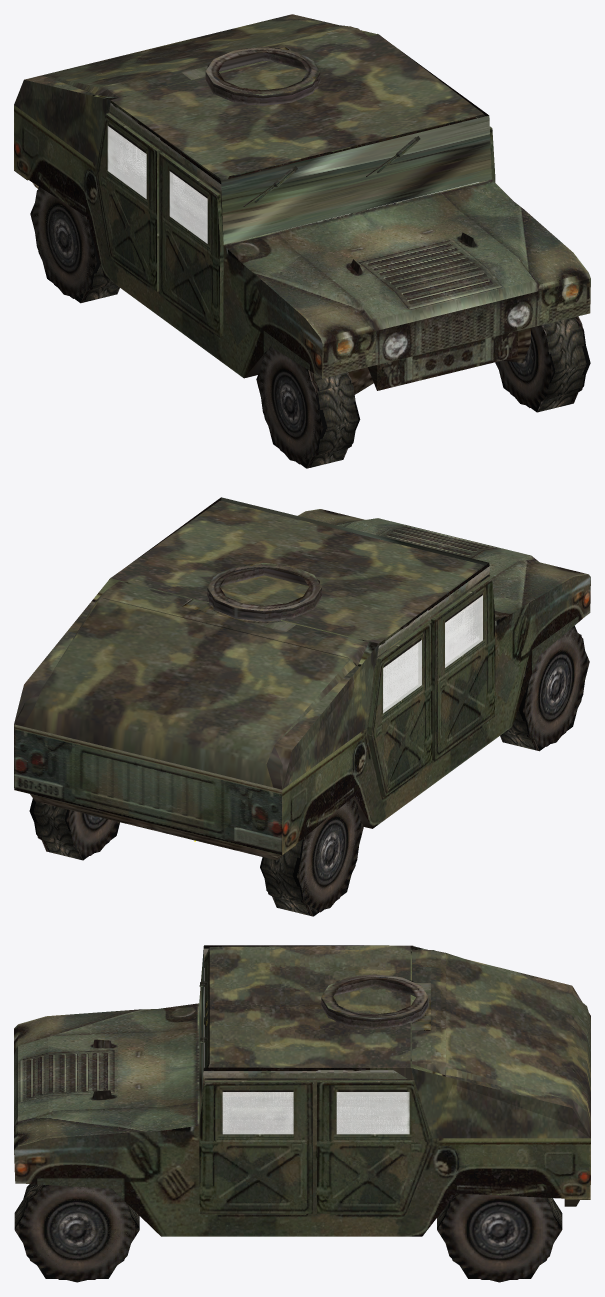
Rendered from FHum50.glb.
3 renders of one model, top to bottom at view 1: azimuth 30°, elevation 25°; view 2: azimuth 150°, elevation 25°; view 3: azimuth 270°, elevation 25°, orthographic. The views are drawn at different scales.
Parts seen in each view (by area): view 1: 01 Mesh0, 01 Mesh0.003, 01 Mesh0.002, 01 Mesh1, 01 Mesh0.001, 03 Mesh0, 03 Mesh0.001, 04 Mesh0, 01 Mesh2, 01 Mesh2.001, 03 Mesh0.002, 02 Mesh0 (+4 smaller); view 2: 01 Mesh0, 01 Mesh0.003, 01 Mesh0.001, 01 Mesh1, 01 Mesh0.002, 04 Mesh0, 04 Mesh0.001, 03 Mesh0, 04 Mesh0.002, 01 Mesh2, 01 Mesh2.001, 03 Mesh0.001 (+1 smaller); view 3: 01 Mesh0, 01 Mesh0.003, 01 Mesh1, 01 Mesh0.001, 01 Mesh0.002, 02 Mesh0, 04 Mesh0, 01 Mesh2, 02 Mesh0.001, 01 Mesh2.001, 04 Mesh0.001, 02 Mesh0.002 (+2 smaller).
Boxes of the visible parts, bbox=[...] form: 01 Mesh0: bbox=[14, 18, 590, 394]; 01 Mesh0.003: bbox=[14, 14, 491, 377]; 01 Mesh0.002: bbox=[14, 35, 590, 373]; 01 Mesh1: bbox=[96, 113, 495, 337]; 01 Mesh0.001: bbox=[15, 19, 523, 375]; 03 Mesh0: bbox=[259, 351, 355, 463]; 03 Mesh0.001: bbox=[259, 351, 352, 464]; 04 Mesh0: bbox=[33, 187, 113, 298]; 01 Mesh2: bbox=[108, 126, 478, 243]; 01 Mesh2.001: bbox=[108, 126, 207, 242]; 03 Mesh0.002: bbox=[256, 346, 360, 468]; 02 Mesh0: bbox=[499, 316, 585, 407]; 01 Mesh0: bbox=[14, 509, 590, 860]; 01 Mesh0.003: bbox=[24, 497, 590, 854]; 01 Mesh0.001: bbox=[17, 563, 540, 843]; 01 Mesh1: bbox=[368, 577, 495, 796]; 01 Mesh0.002: bbox=[14, 501, 540, 852]; 04 Mesh0: bbox=[34, 798, 361, 910]; 04 Mesh0.001: bbox=[37, 798, 361, 912]; 03 Mesh0: bbox=[505, 627, 587, 746]; 04 Mesh0.002: bbox=[29, 798, 363, 916]; 01 Mesh2: bbox=[383, 595, 482, 712]; 01 Mesh2.001: bbox=[383, 596, 482, 712]; 03 Mesh0.001: bbox=[504, 629, 586, 746]; 01 Mesh0: bbox=[14, 950, 590, 1236]; 01 Mesh0.003: bbox=[14, 945, 590, 1236]; 01 Mesh1: bbox=[199, 1080, 430, 1213]; 01 Mesh0.001: bbox=[14, 950, 590, 1236]; 01 Mesh0.002: bbox=[14, 945, 590, 1236]; 02 Mesh0: bbox=[19, 1184, 134, 1282]; 04 Mesh0: bbox=[441, 1193, 557, 1282]; 01 Mesh2: bbox=[204, 968, 409, 1134]; 02 Mesh0.001: bbox=[19, 1184, 134, 1279]; 01 Mesh2.001: bbox=[223, 1092, 409, 1133]; 04 Mesh0.001: bbox=[442, 1193, 556, 1279]; 02 Mesh0.002: bbox=[14, 1184, 139, 1278].
Bounding box in the file's own units: 2.56 × 2.15 × 4.98.
7 materials, 4 textured.
